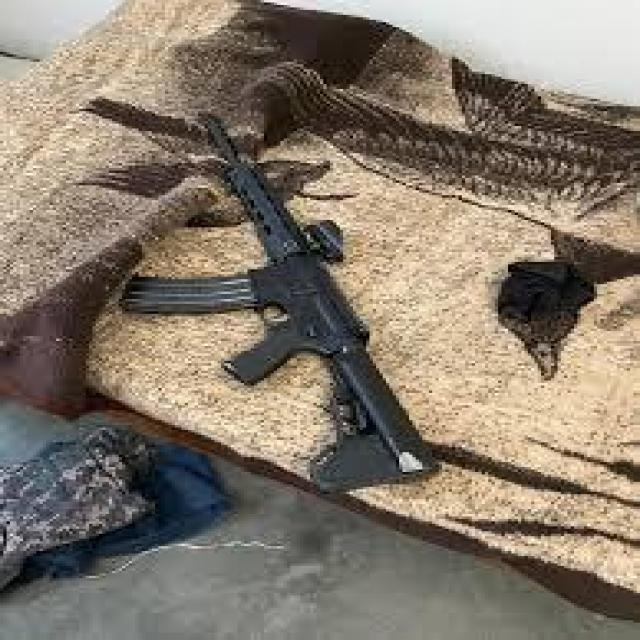weapon: (116, 114, 442, 496)
